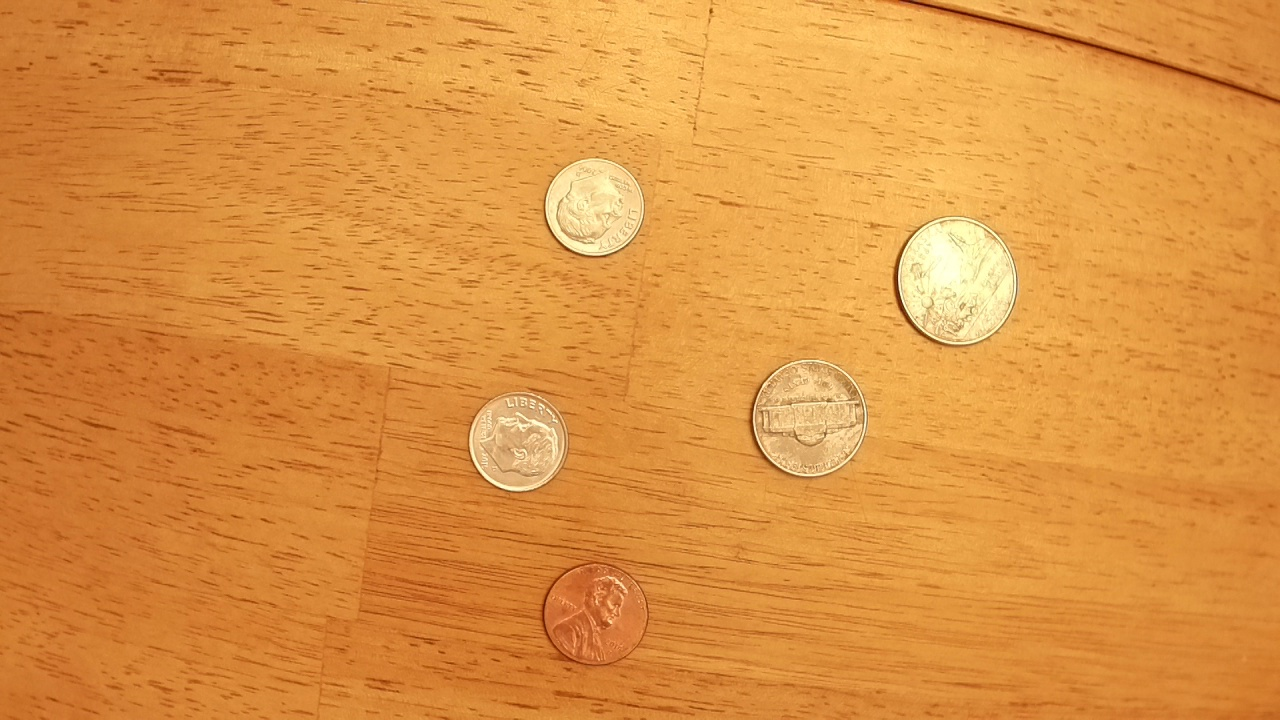dime: (538, 154, 650, 262), (466, 388, 570, 496)
nickel: (744, 357, 876, 479)
penny: (539, 559, 651, 669)
quarter: (894, 215, 1018, 348)
